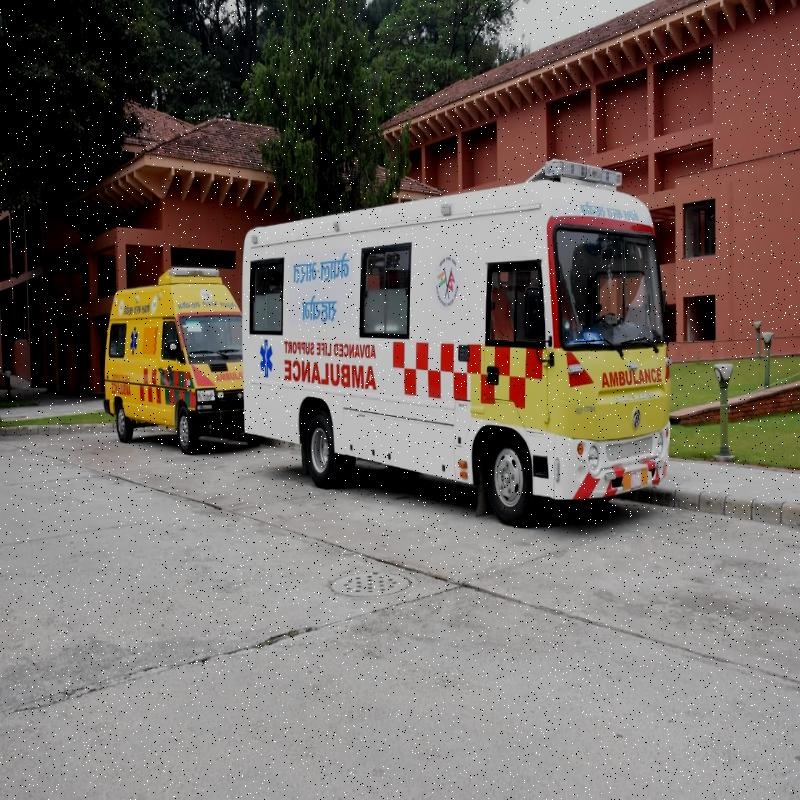ambulance: (237, 146, 684, 535), (101, 261, 263, 450)
